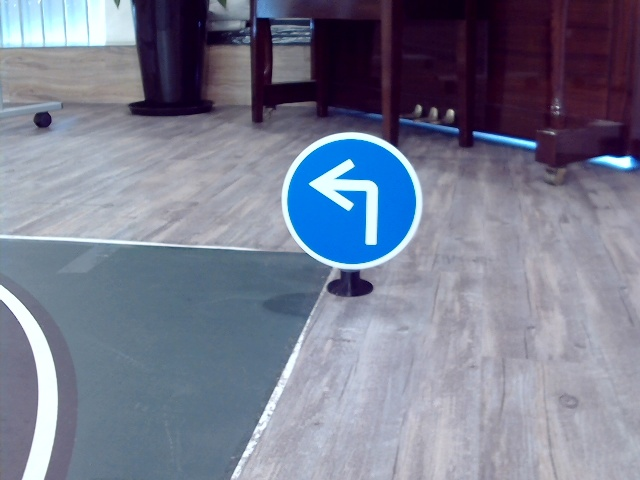turn_left: (308, 158, 387, 245)
